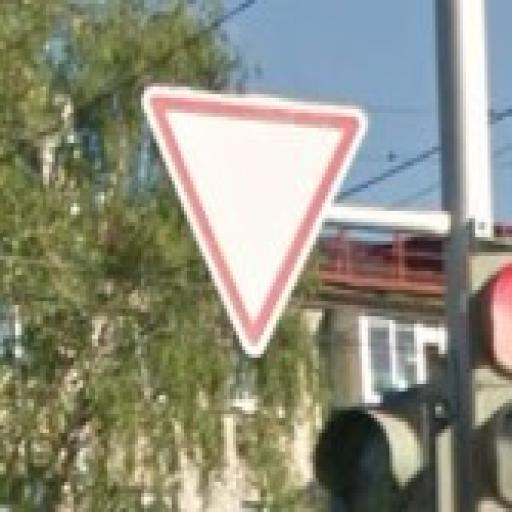traffic_sign: (142, 84, 369, 362)
